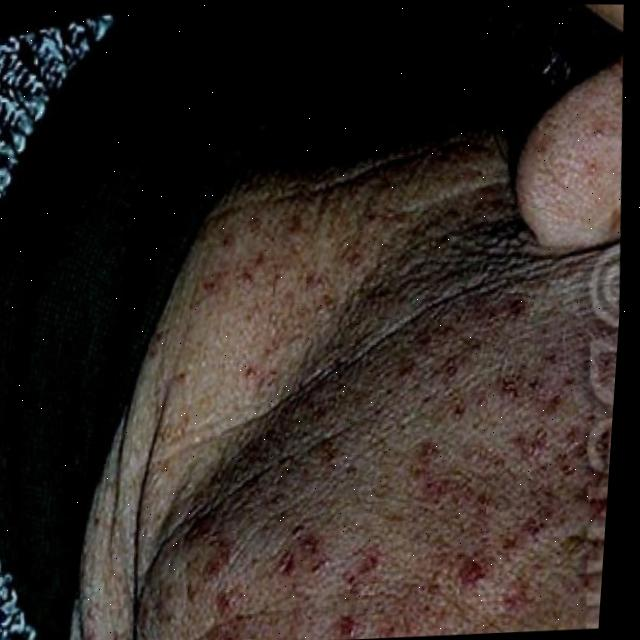Rosacea: (167, 280, 615, 640), (143, 171, 429, 396)
